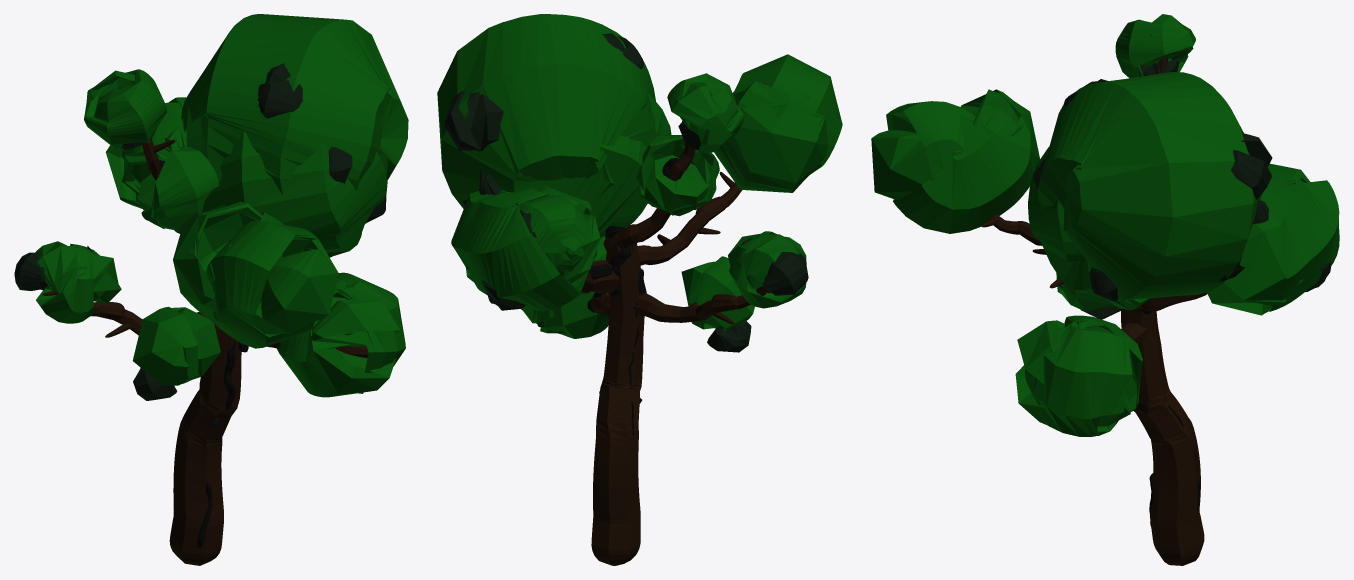
File: Baum.fbx
3 renders of one model, left to right at view 1: azimuth 30°, elevation 25°; view 2: azimuth 150°, elevation 25°; view 3: azimuth 270°, elevation 25°, orthographic. The views are drawn at different scales.
Parts seen in each view (by area): view 1: NewLayer2; view 2: NewLayer2; view 3: NewLayer2.
Part boxes in pixels (<box>): NewLayer2: <box>14,14,408,565</box>; NewLayer2: <box>437,14,842,565</box>; NewLayer2: <box>871,14,1339,565</box>.
Bounding box in the file's own units: 8.9 × 11.95 × 9.71.
